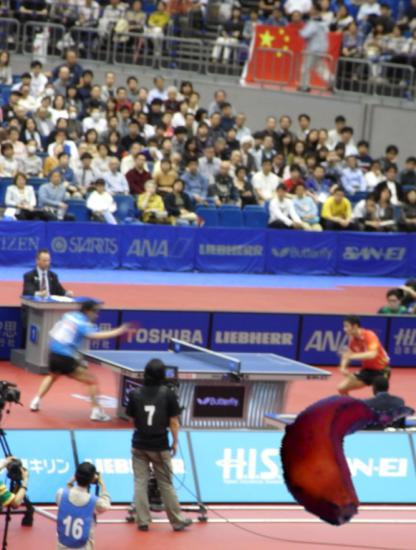Banana: (264, 377, 409, 522)
